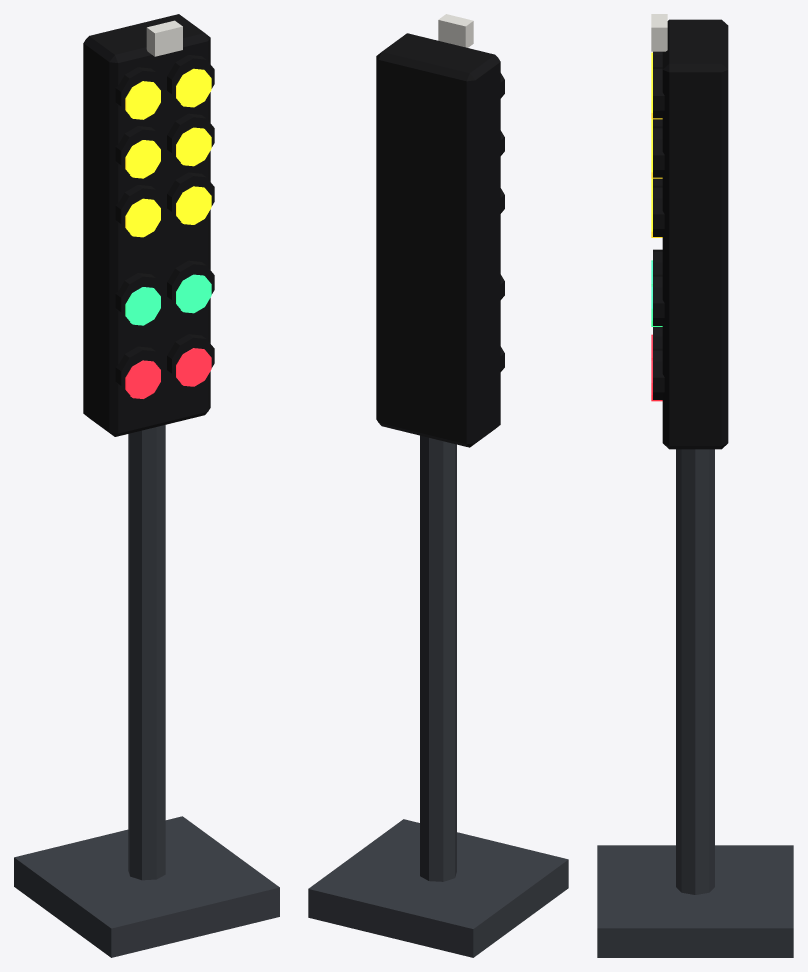
Rendered from start_tree.glb.
3 views of the same model, side by side, from view 1: azimuth 30°, elevation 25°; view 2: azimuth 150°, elevation 25°; view 3: azimuth 270°, elevation 25° (orthographic). The views are drawn at different scales.
Visible parts, largest first — view 1: start_tree; view 2: start_tree; view 3: start_tree.
Boxes of the visible parts, box(x1,y1,x2,y2) form: start_tree: box(14, 14, 279, 957); start_tree: box(308, 14, 568, 957); start_tree: box(597, 14, 793, 957).
Size of the model in its own units: 0.6 by 3.02 by 0.6.
